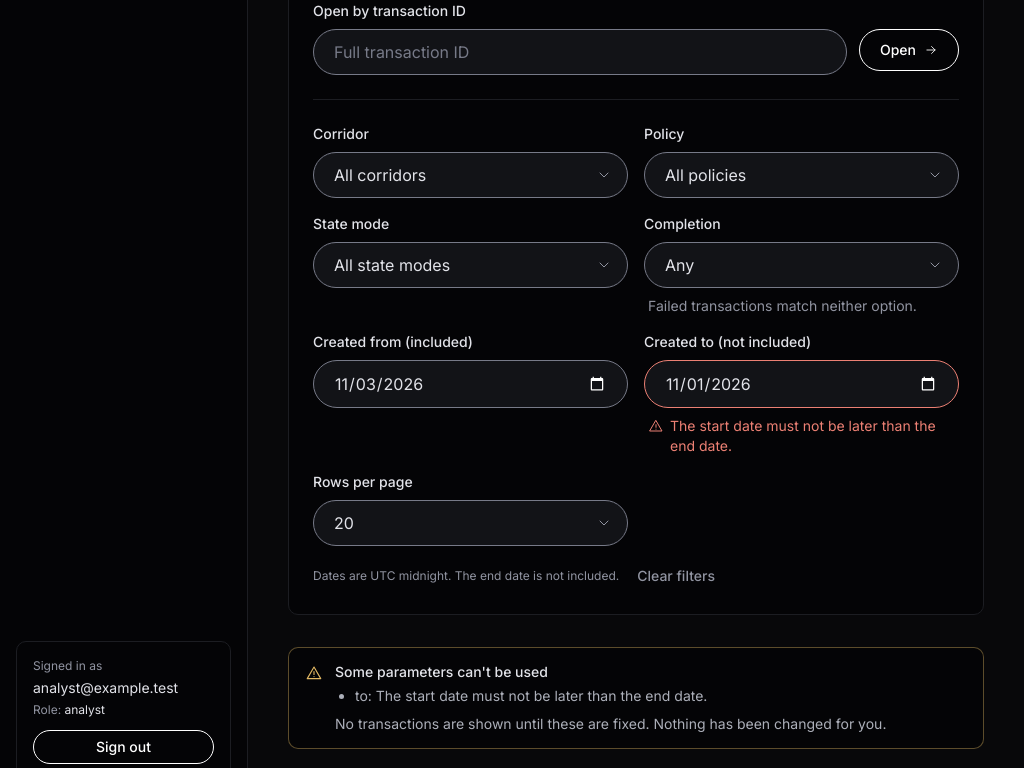
Test case: invalid parameters › recovers when the date range is fixed through the fields
(page scrolled)
Check: the text "The start date must not be later than the end date." is shown, box [670,416,955,456]
Step 1. Type "2026-11-04" into the date field labelled "Created to (not included)" → (802, 384), box [644,360,959,408]
(page scrolled)
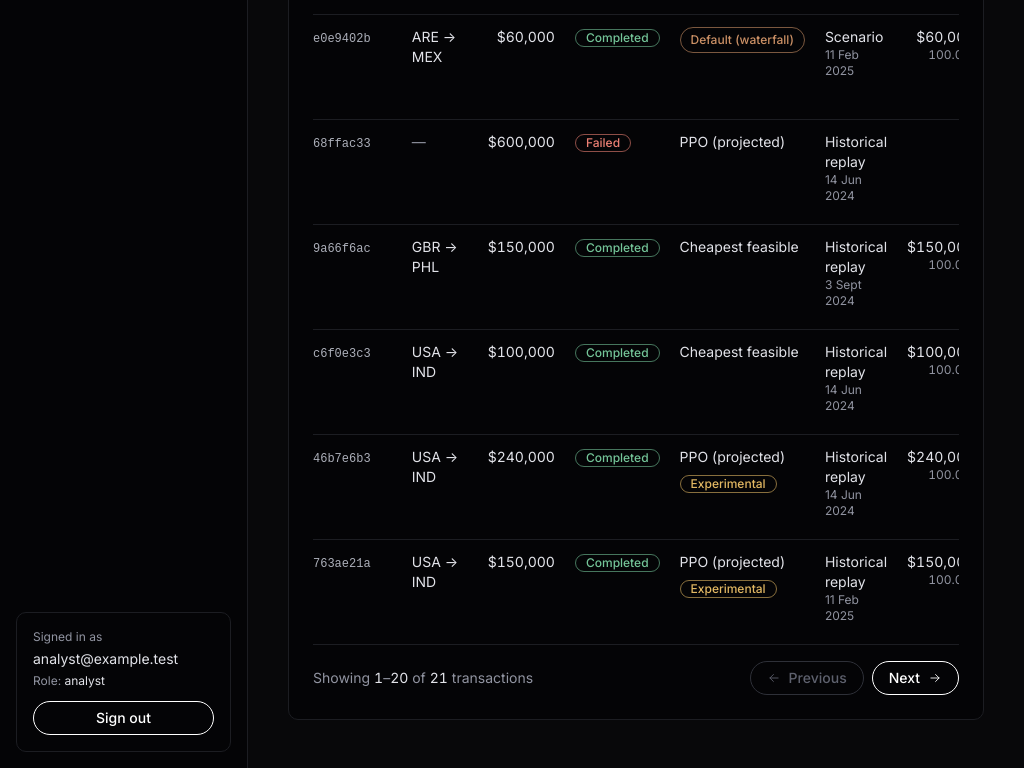
Check: the text "The start date must not be later than the end date." is gone
